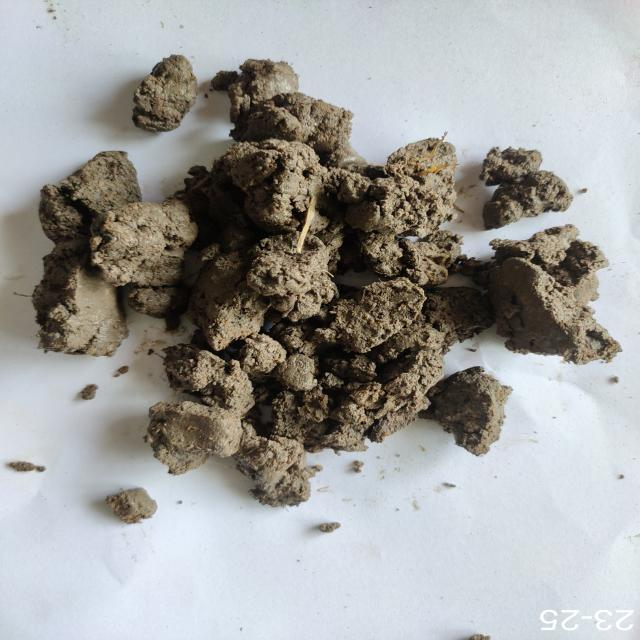soil: (181, 220, 428, 394)
